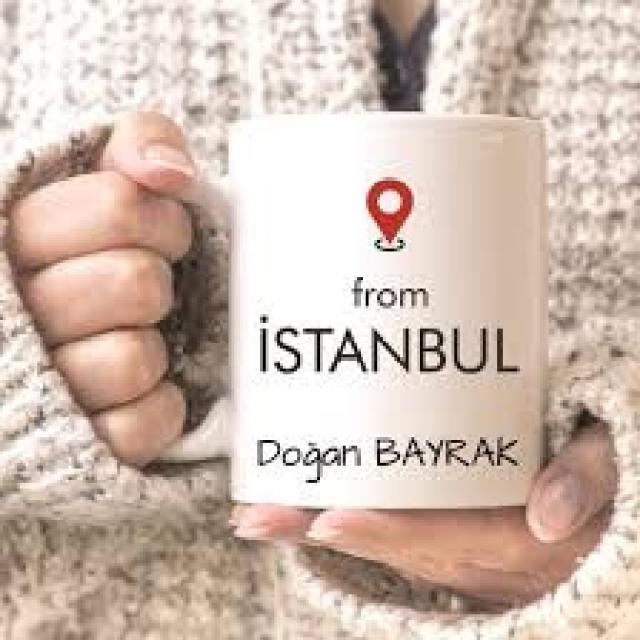taza: (105, 112, 550, 510)
